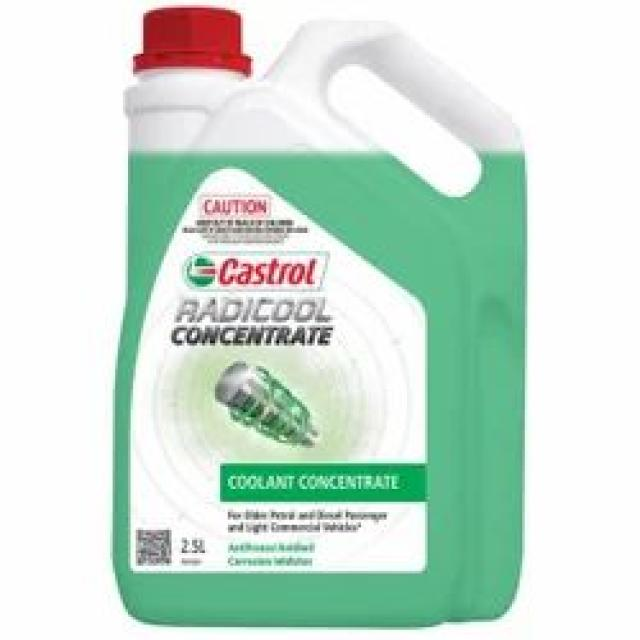coolant: (110, 6, 534, 630)
